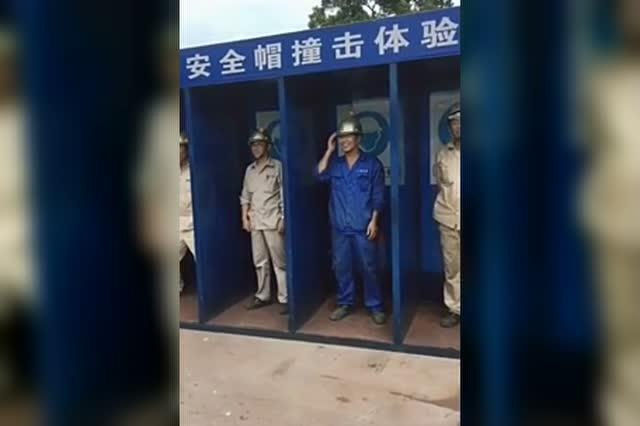helmet: (449, 101, 476, 129), (340, 123, 362, 139), (249, 134, 270, 148)
